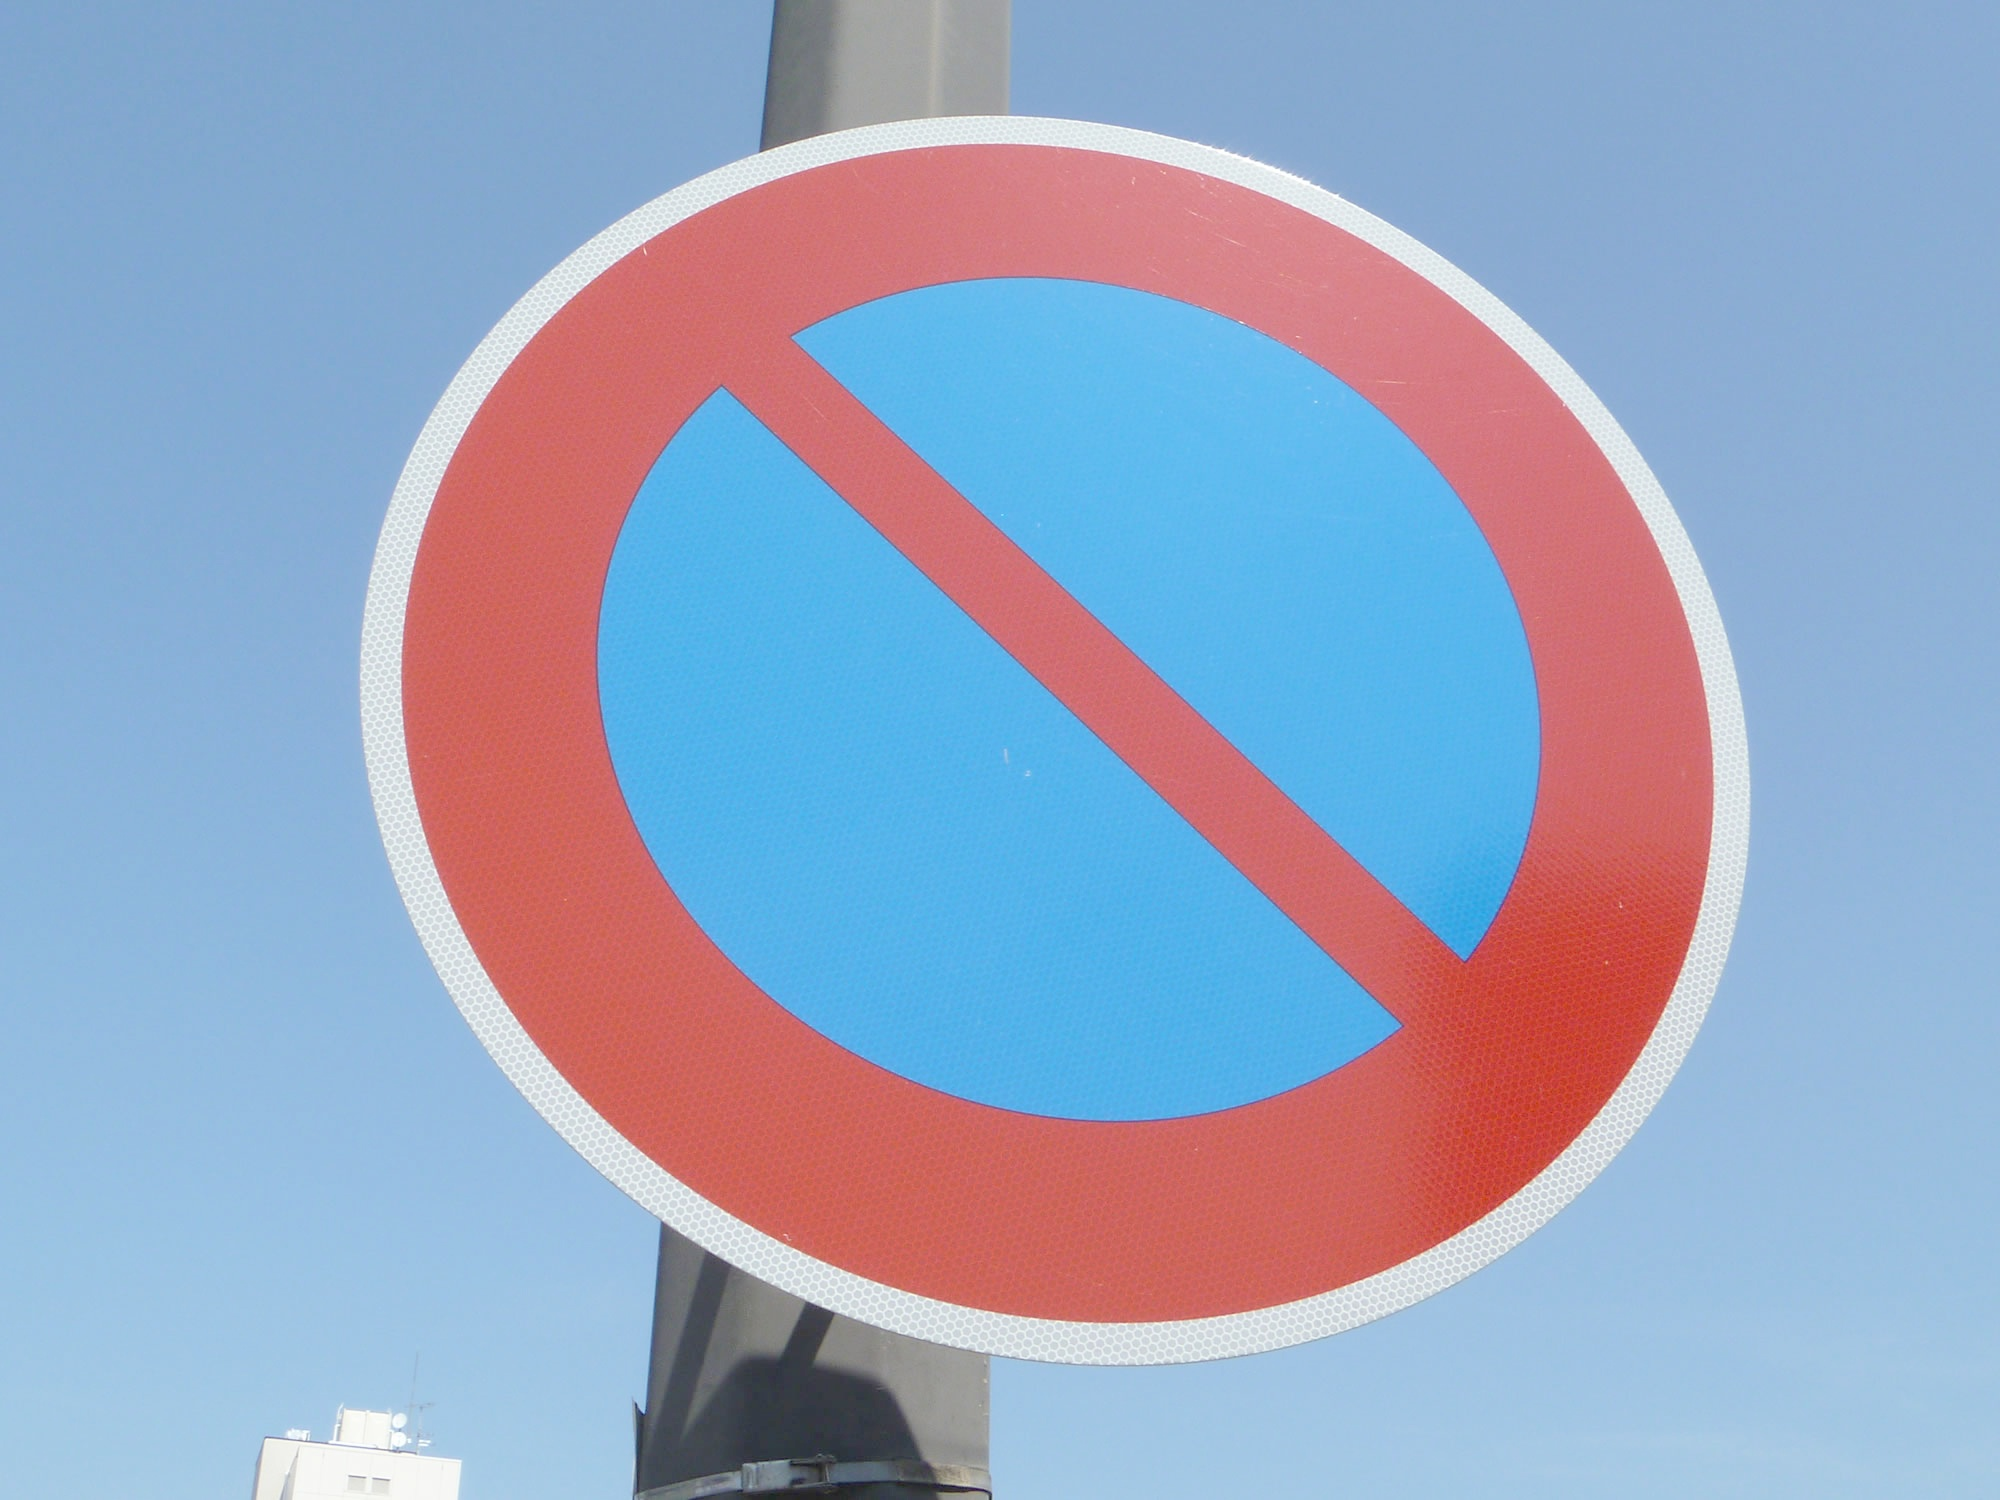Prohibition_sign: (324, 87, 1847, 1409)
